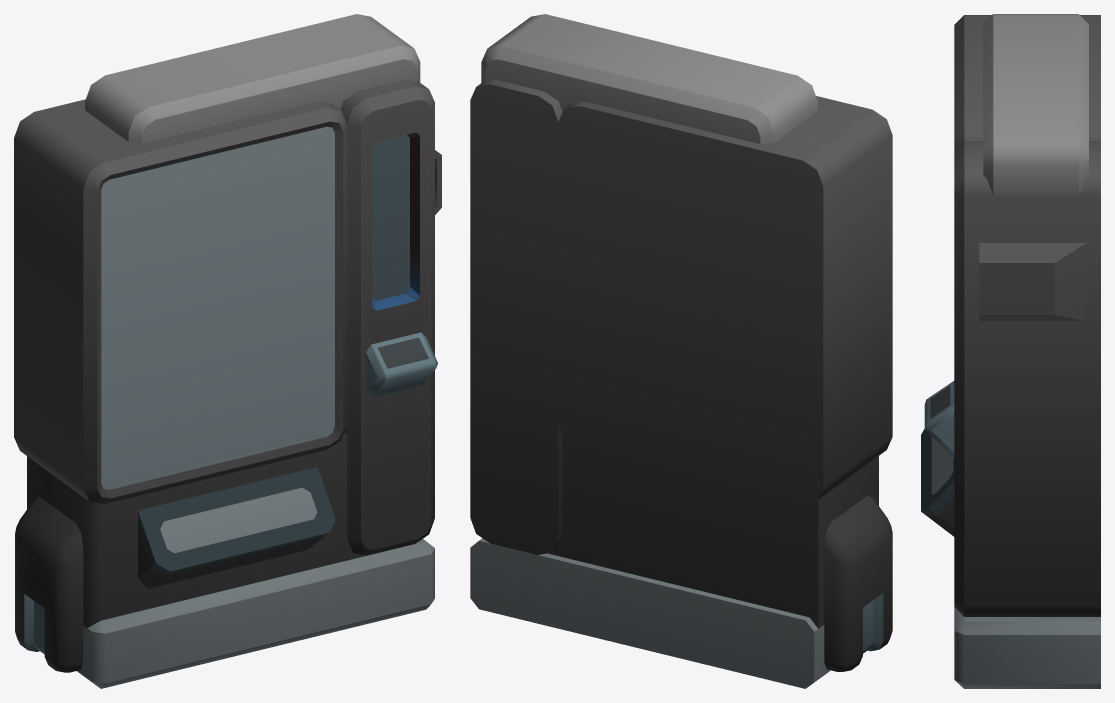
File: Vending_Machine_004.fbx
3 views of the same model, side by side, from view 1: azimuth 30°, elevation 25°; view 2: azimuth 150°, elevation 25°; view 3: azimuth 270°, elevation 25° (orthographic).
Visible parts, largest first — view 1: Vending_Machine_004; view 2: Vending_Machine_004; view 3: Vending_Machine_004.
Boxes of the visible parts, x1,y1,x2,y2 form: Vending_Machine_004: (14, 14, 441, 688); Vending_Machine_004: (470, 14, 892, 688); Vending_Machine_004: (921, 14, 1100, 688).
Bounding box in the file's own units: 152 × 62.95 × 211.
